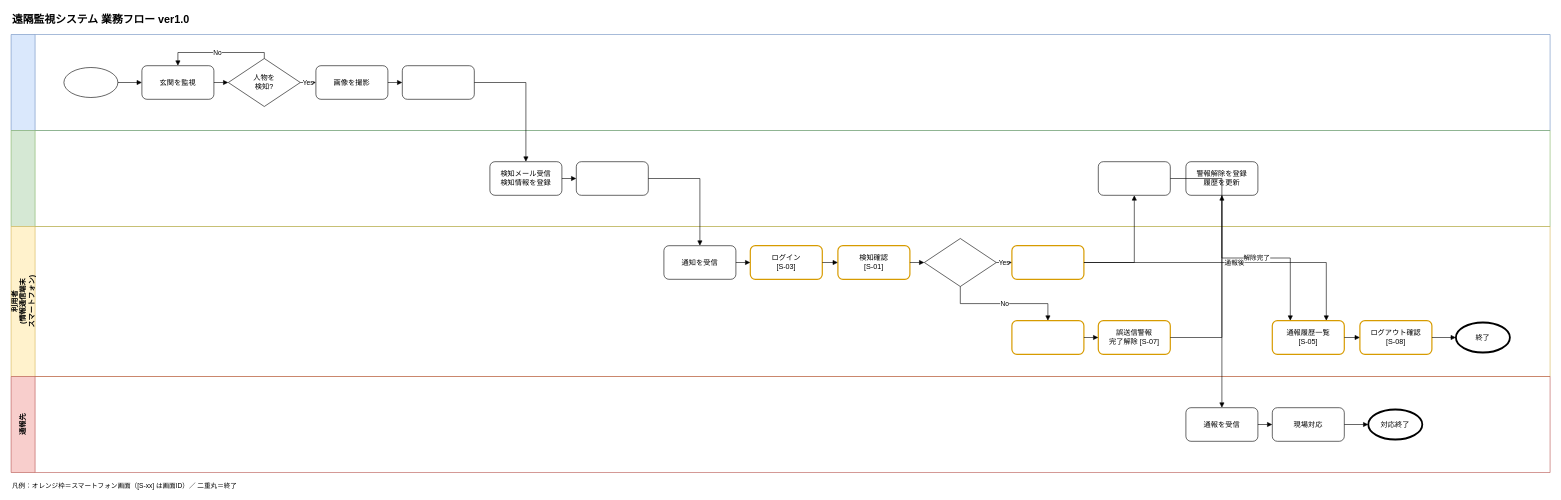
Some shapes in this 1561 by 500 pixel diagram are drawn without their labels. The box of each missing label's shape, as (x1, y1, x2, y2) in pixels:
PCサーバー (メール受信): (10, 130, 1550, 226)
不審者か?: (924, 238, 996, 286)
利用者へ通知: (576, 161, 648, 195)
検知メールを送信 (msmtp): (402, 65, 474, 99)
監視端末 (Raspberry Pi): (10, 34, 1550, 130)
監視開始: (63, 67, 118, 98)
誤送信警報解除 [S-06]: (1011, 320, 1084, 355)
通報 [S-02]: (1011, 245, 1084, 280)
通報を受付 履歴を登録: (1098, 161, 1170, 195)
